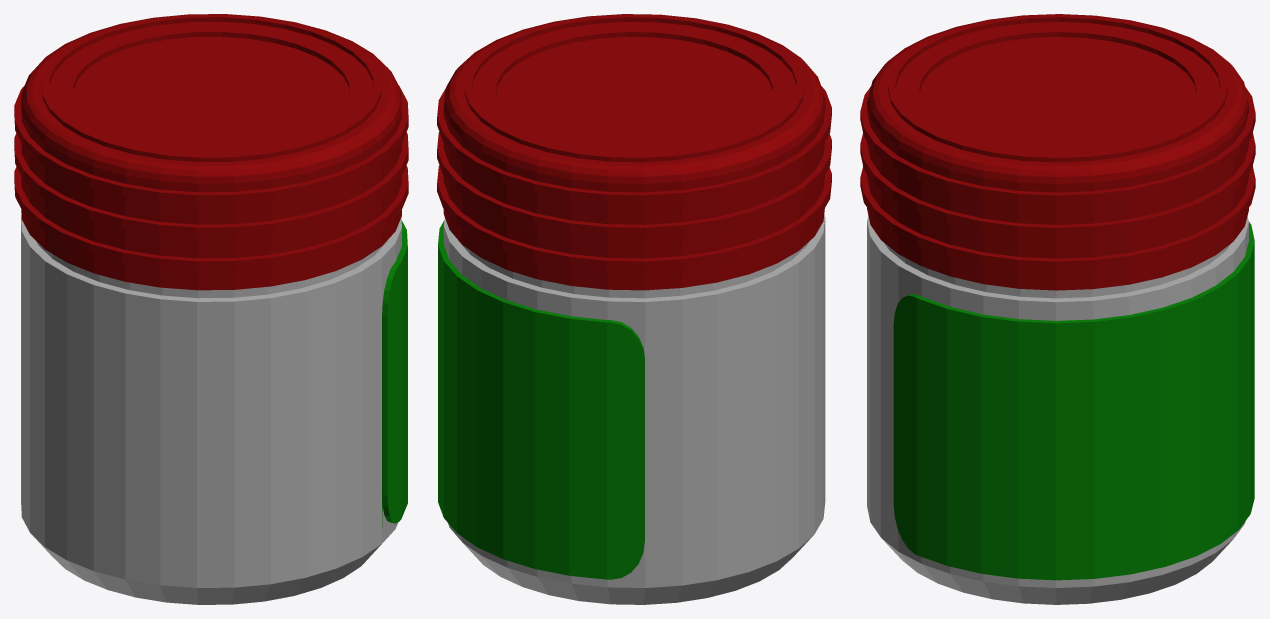
Rendered from PillBottle.fbx.
The picture shows the model from 3 angles, left to right: view 1: azimuth 30°, elevation 25°; view 2: azimuth 150°, elevation 25°; view 3: azimuth 270°, elevation 25°; orthographic projection.
Parts seen in each view (by area): view 1: Pill Bottle; view 2: Pill Bottle; view 3: Pill Bottle.
Boxes of the visible parts, box(x1,y1,x2,y2) form: Pill Bottle: box(14, 14, 408, 604); Pill Bottle: box(437, 14, 831, 604); Pill Bottle: box(860, 14, 1255, 604).
Size of the model in its own units: 49.42 by 61.8 by 49.42.
